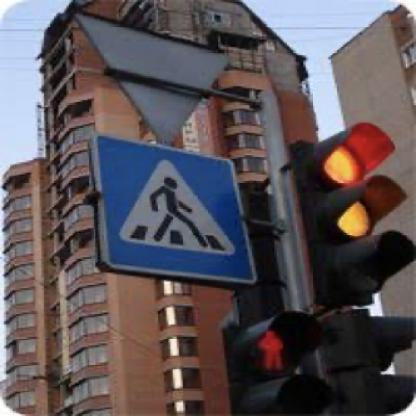crosswalk: (84, 129, 256, 285)
trafficlight: (286, 121, 414, 294), (222, 309, 322, 412), (331, 309, 415, 413)
